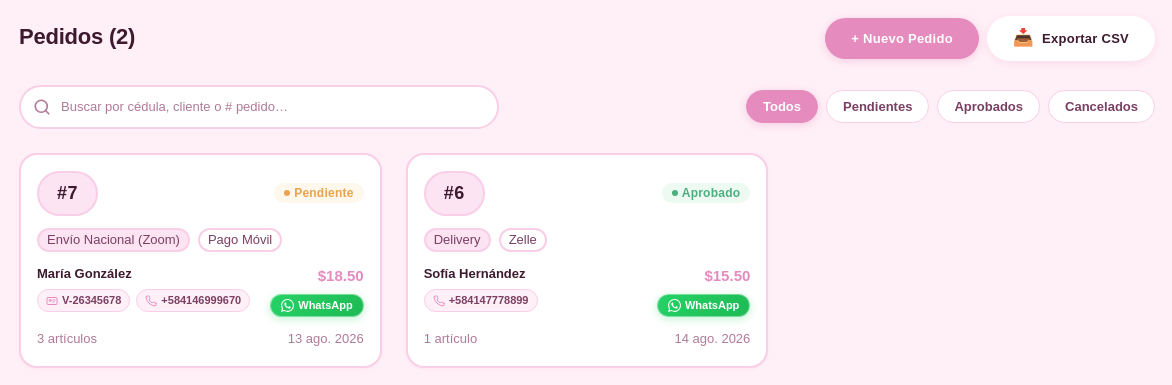
OrdersDashboardPage — listado vía API › permite buscar y filtrar pedidos por cédula
Expected: the text "María González" is shown, [37,266,132,281]
Type "26345678" into the search field named "buscar pedidos" at (259, 107), box [19,85,499,129]
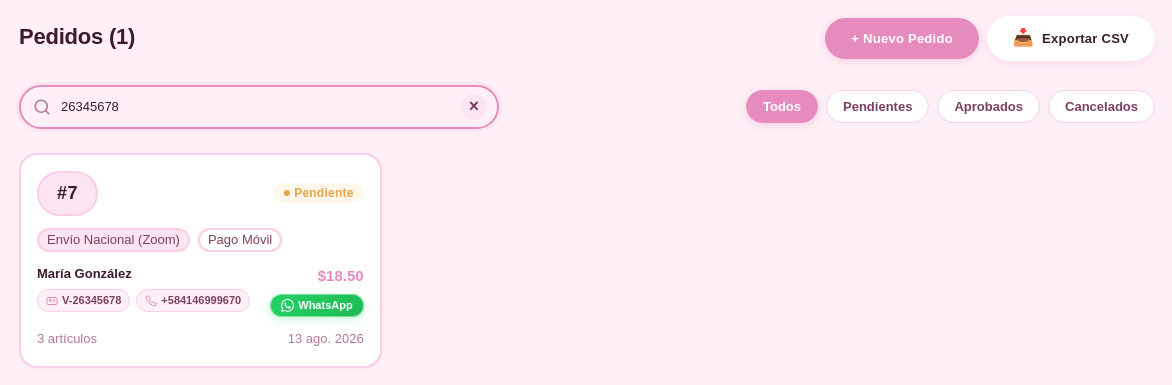
Expected: the text "María González" is shown, [37,266,132,281]
Expected: the text "Sofía Hernández" is gone
Expected: the button named "limpiar búsqueda" is shown
Click the button named "limpiar búsqueda" at (474, 107), box [461,94,487,120]
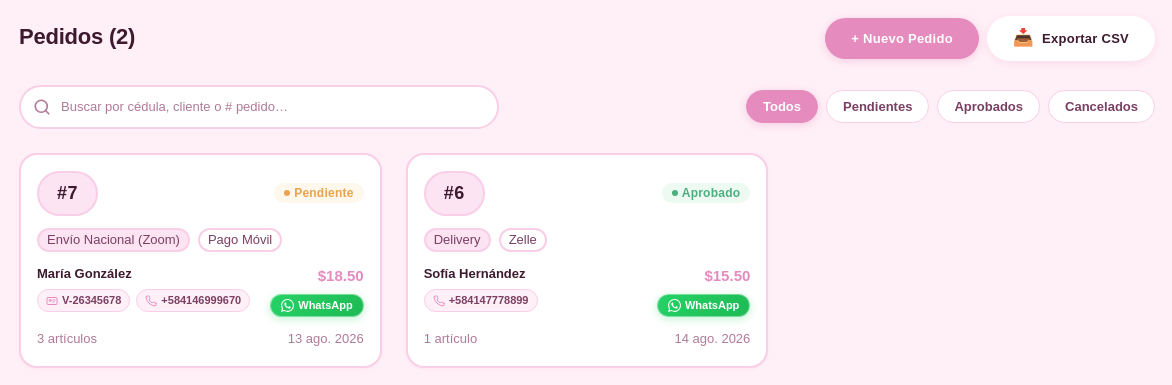
Expected: the search field named "buscar pedidos" is empty, [19,85,499,129]
Expected: the text "Sofía Hernández" is shown, [424,264,538,285]
